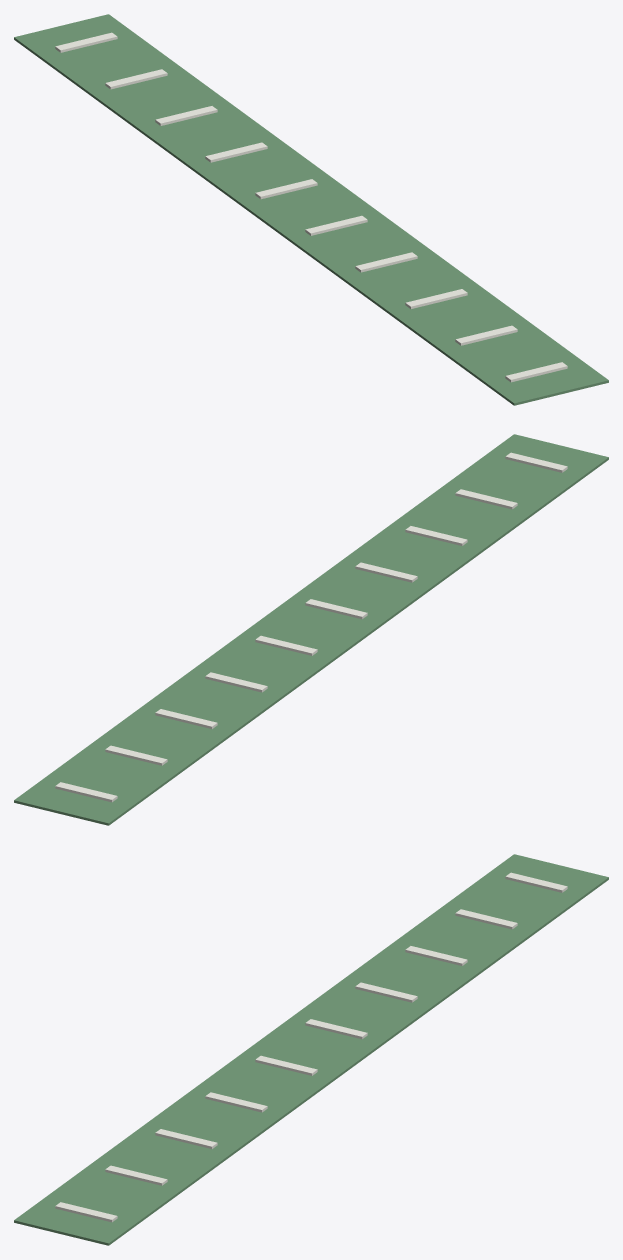
The model's file is american-football-stadium-kit-hash-lane-dacbd496__22321.glb.
3 renders of one model, top to bottom at view 1: azimuth 30°, elevation 25°; view 2: azimuth 150°, elevation 25°; view 3: azimuth 330°, elevation 25°, orthographic.
Visible parts, largest first — view 1: hash-lane; view 2: hash-lane; view 3: hash-lane.
Boxes of the visible parts, <box> form: hash-lane: <box>14,14,608,405</box>; hash-lane: <box>14,434,608,825</box>; hash-lane: <box>14,854,608,1245</box>.
Bounding box in the file's own units: 1 × 0.05 × 9.14.
